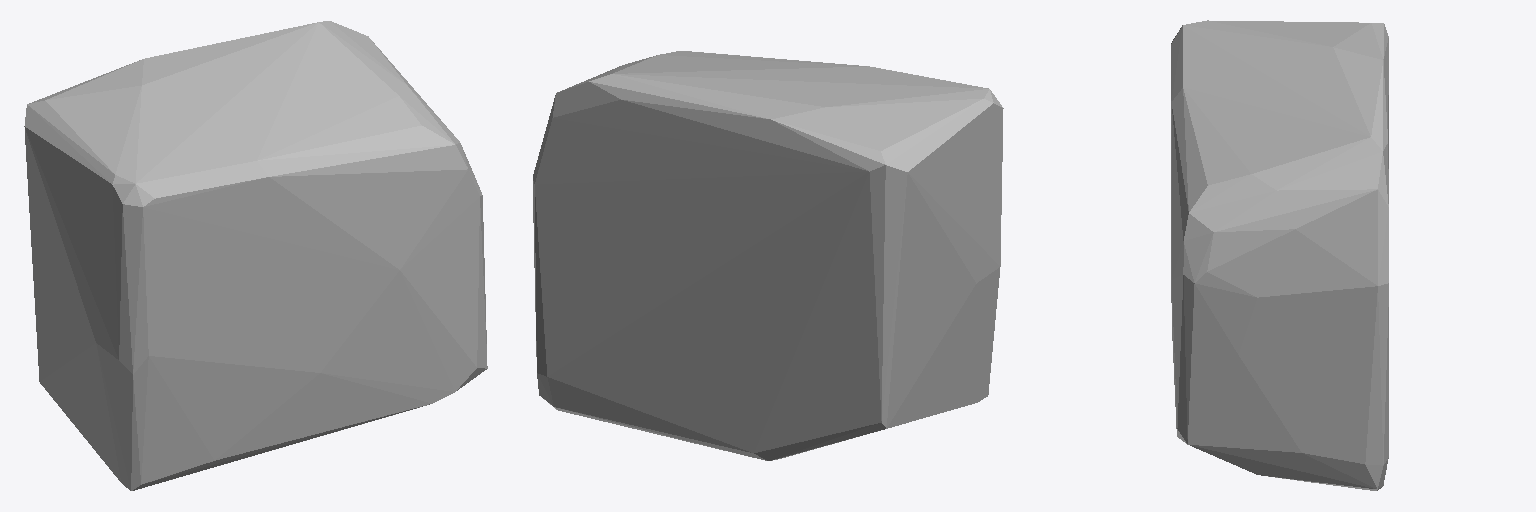
The robot description file, URDF, robot "root":
<robot name="root">
  <link name="link_rock23_convex_piece_0">
    <inertial>
      <origin rpy="0 0 0" xyz="0 0 0"/>
      <mass value="6.99E+05"/>
      <inertia ixx="4.05E+08" ixy="5.23E+08" ixz="-4.46E+08" iyy="3.60E+08" iyz="2.15E+08" izz="-1.32E+08"/>
    </inertial>
    <visual>
      <origin rpy="0 0 0" xyz="0 0 0"/>
      <geometry>
        <mesh filename="rock23_convex_piece_0.obj" scale="1.0000E+00 1.0000E+00 1.0000E+00"/>
      </geometry>
      <material name="">
        <color rgba="7.50E-01 7.50E-01 7.50E-01 1"/>
      </material>
    </visual>
    <collision>
      <origin rpy="0 0 0" xyz="0 0 0"/>
      <geometry>
        <mesh filename="rock23_convex_piece_0.obj" scale="1.0000E+00 1.0000E+00 1.0000E+00"/>
      </geometry>
    </collision>
  </link>
</robot>

--- Render facts (derived) ---
3 views of the same robot in one strip: view 1: azimuth 30°, elevation 25°; view 2: azimuth 150°, elevation 25°; view 3: azimuth 270°, elevation 25° (orthographic).
Robot: root — 1 links, 0 joints (none); root link link_rock23_convex_piece_0; default pose: every joint at zero.
Visible links, largest first — view 1: link_rock23_convex_piece_0; view 2: link_rock23_convex_piece_0; view 3: link_rock23_convex_piece_0.
Boxes of the visible links, <box> form: link_rock23_convex_piece_0: <box>24,21,487,490</box>; link_rock23_convex_piece_0: <box>533,51,1003,460</box>; link_rock23_convex_piece_0: <box>1171,20,1388,490</box>.
Bounding box of the posed robot: 122 × 65.6 × 110 m (x, y, z).
Meshes: 1 distinct files referenced, 1 mesh visuals loaded (1 OBJ).
